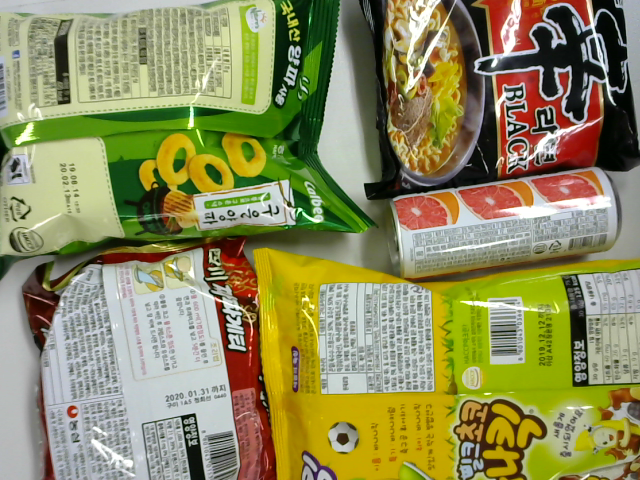Banana_Kick: (255, 248, 636, 480)
Demisoda_Grapefruit_Can_250ml: (379, 172, 625, 274)
Grilled_Onions: (3, 10, 357, 246)
Sichuan_Chapaghetti: (25, 246, 271, 480)
Sinramen_Black: (357, 8, 640, 182)
